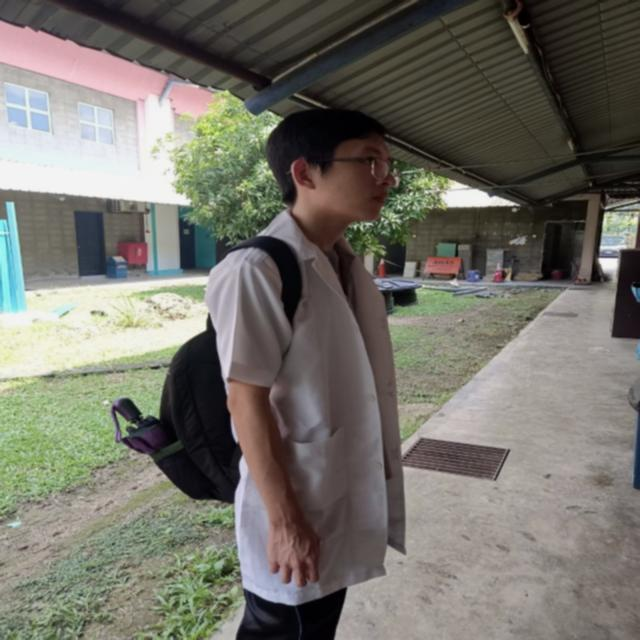person_with_labcoat: (206, 109, 405, 640)
